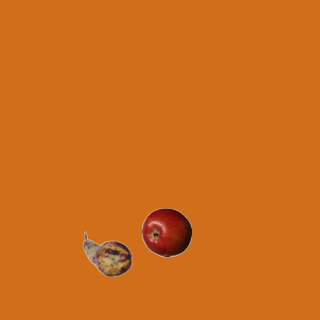Apple Braeburn: (141, 207, 191, 257)
Pear Abate: (82, 229, 132, 279)
